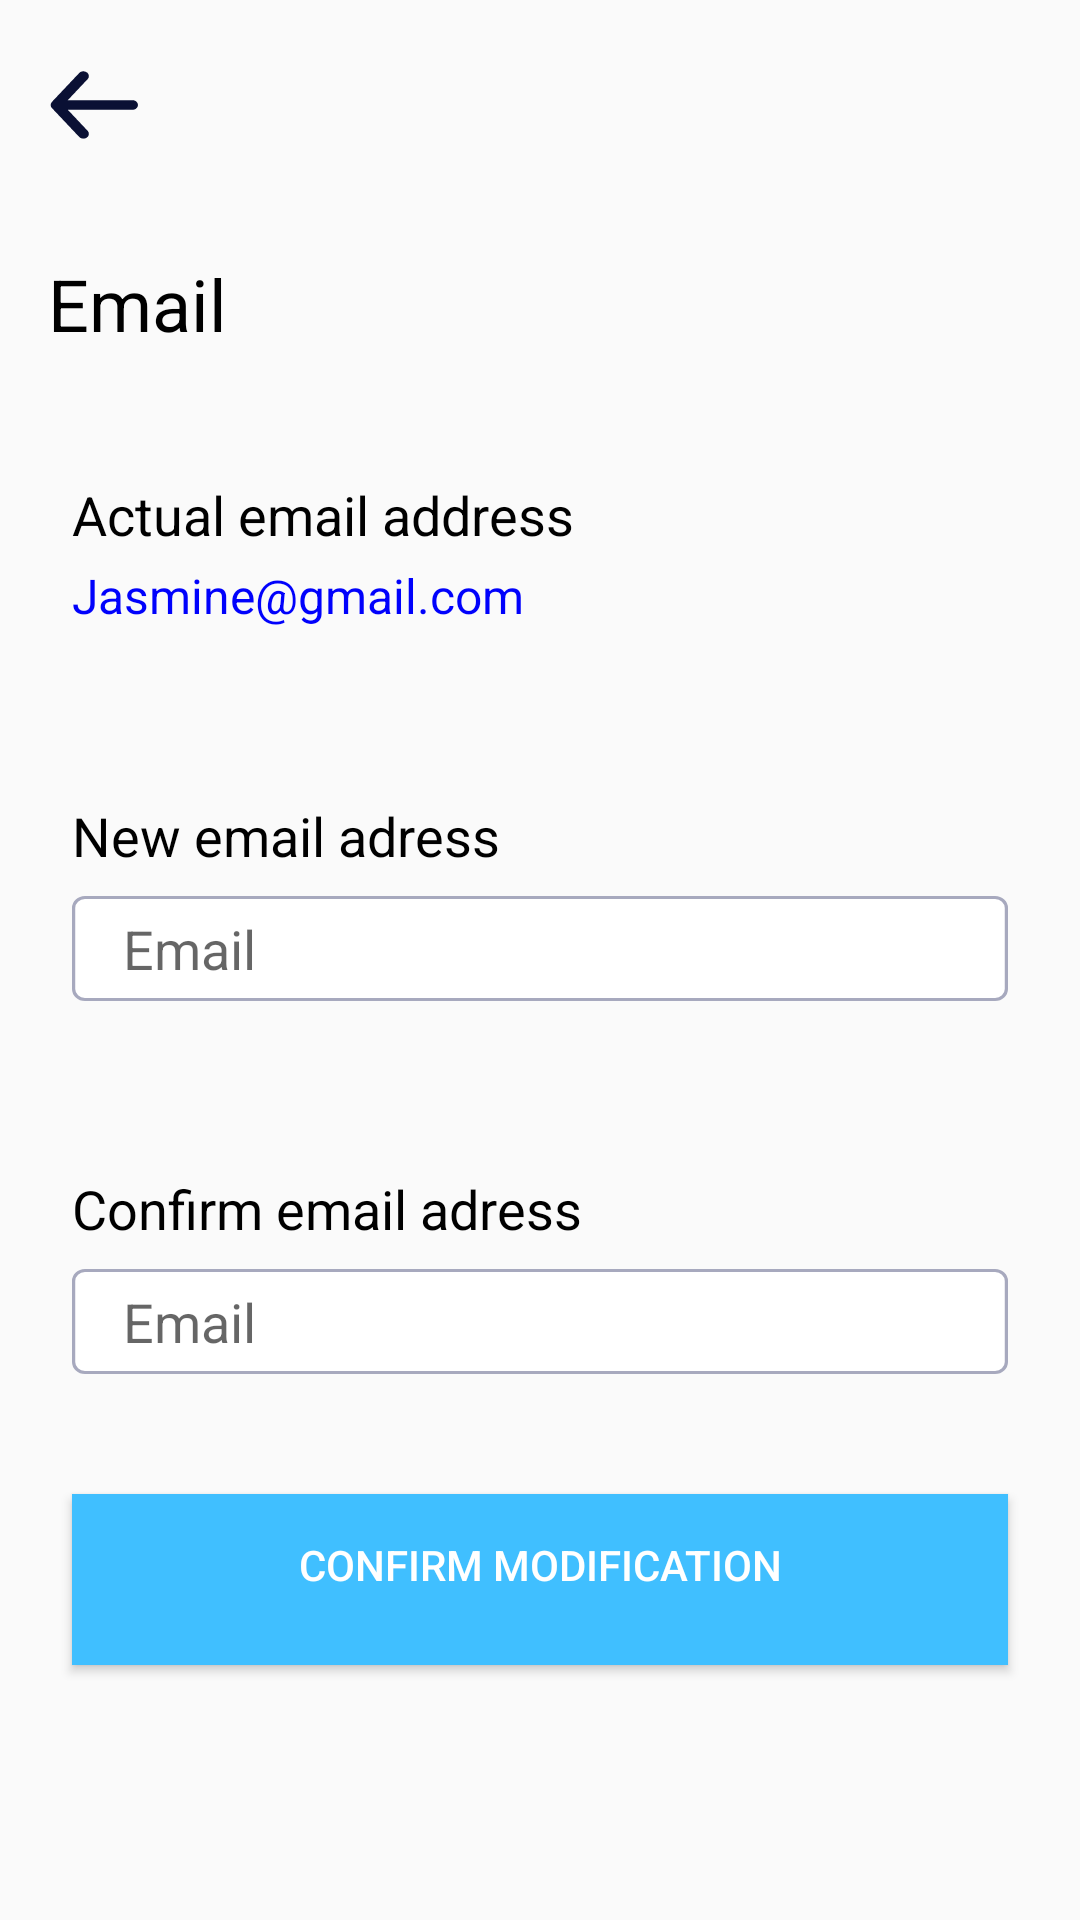

Where to tap for icons on this 1080 x 1920 app screen, as point (x, y):
backicon: point (94, 105)
